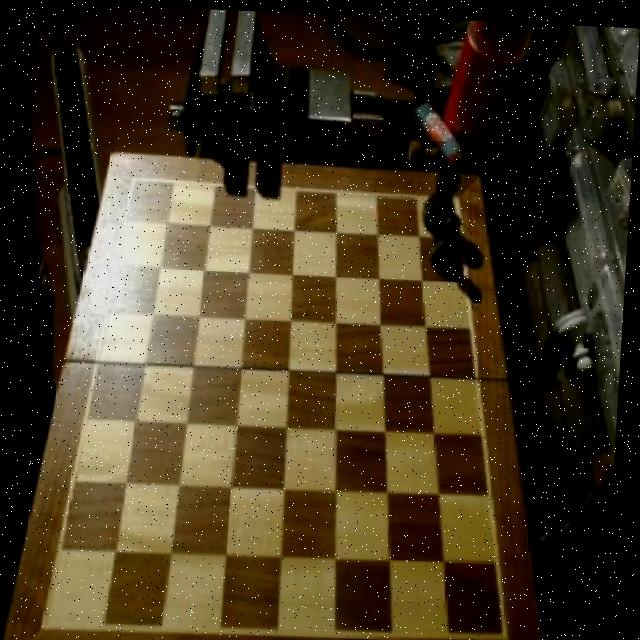black-knight: (429, 214, 468, 274)
black-queen: (421, 161, 465, 231)
